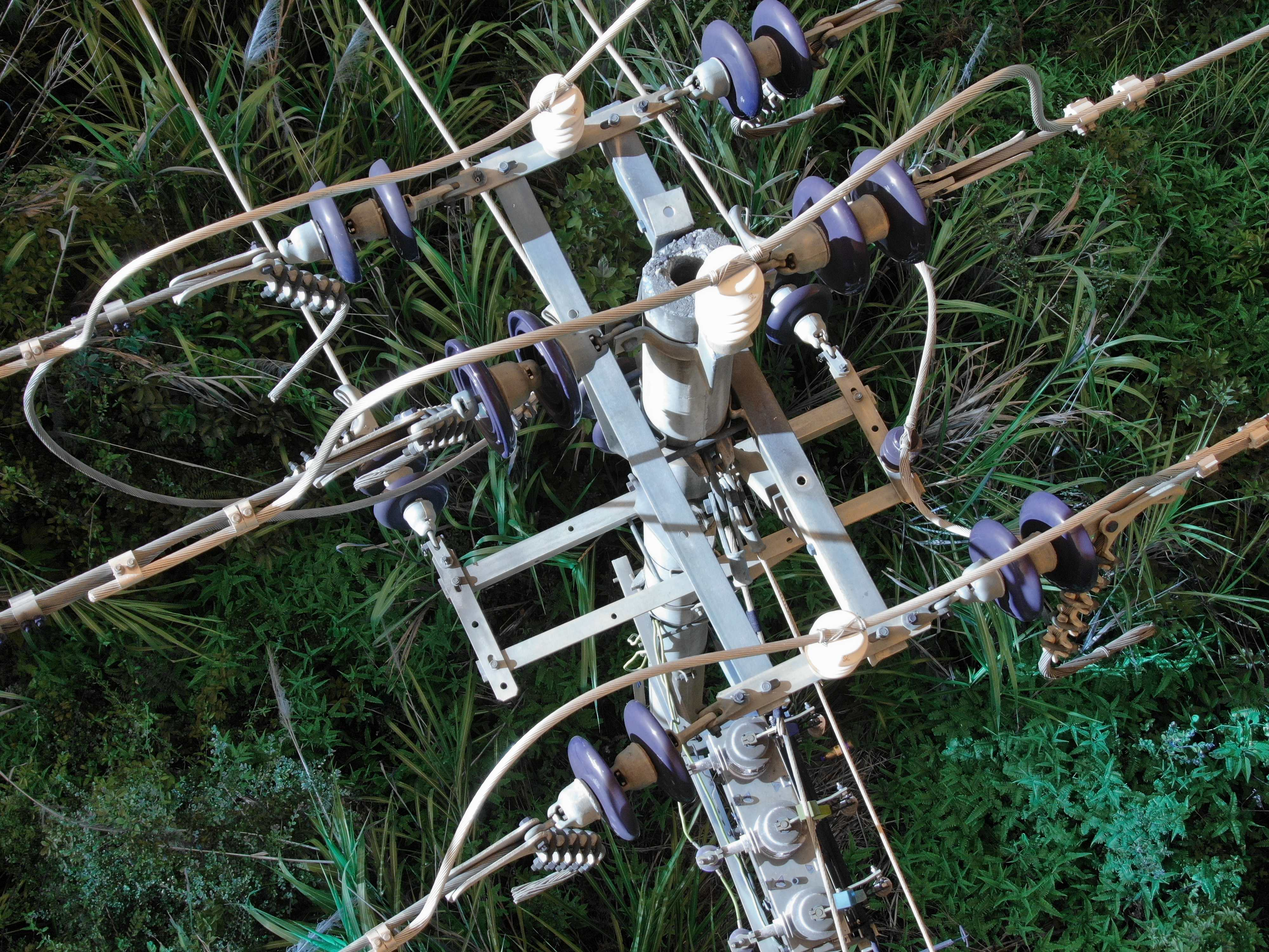severe_soiling_no_discharge_whole: (878, 423, 926, 475)
